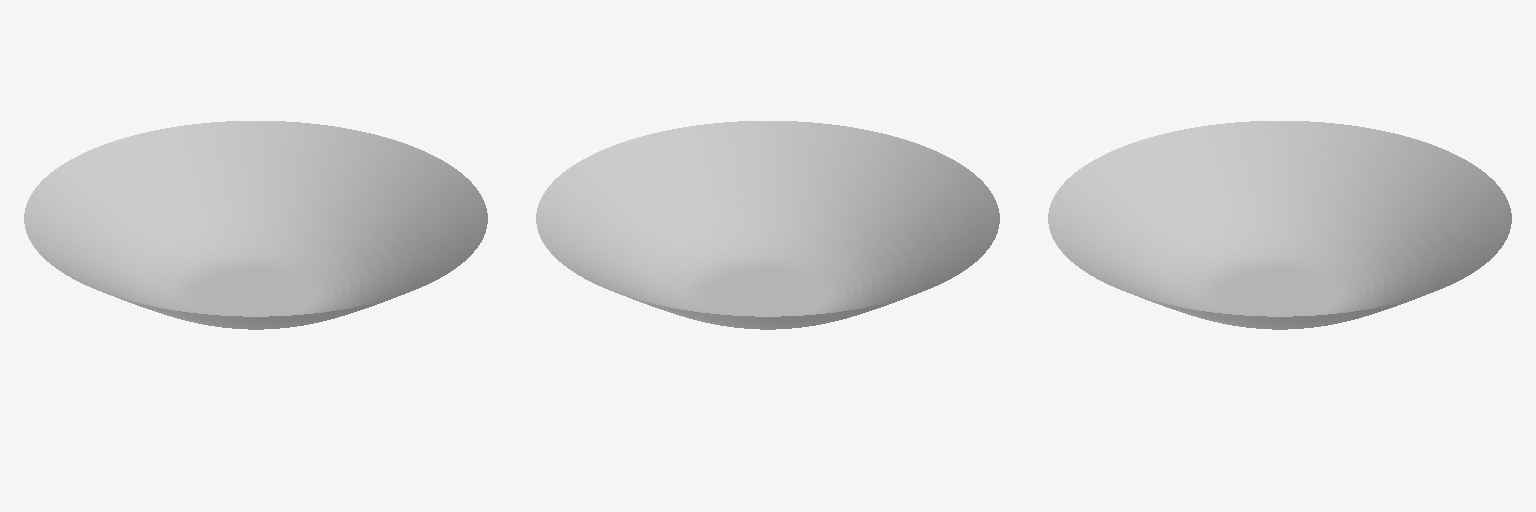
Rendered from infiniteRoom_v001.obj.
The picture shows the model from 3 angles: view 1: azimuth 30°, elevation 25°; view 2: azimuth 150°, elevation 25°; view 3: azimuth 270°, elevation 25°; orthographic projection.
Visible parts, largest first — view 1: infiniteRoom_Cylinder; view 2: infiniteRoom_Cylinder; view 3: infiniteRoom_Cylinder.
Part boxes in pixels (x1,y1,x2,y2): infiniteRoom_Cylinder: (24,121,487,329); infiniteRoom_Cylinder: (536,121,999,329); infiniteRoom_Cylinder: (1048,121,1511,329).
Size of the model in its own units: 1047 by 186 by 1047.